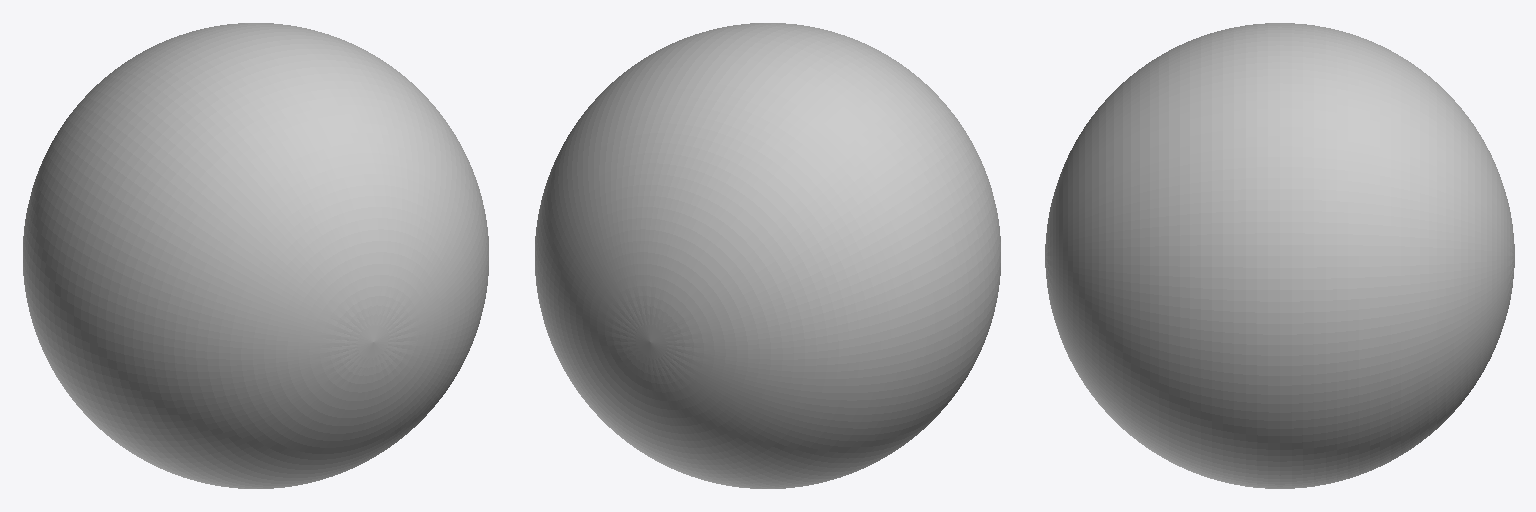
The model's file is sun2.obj.
3 renders of one model, left to right at view 1: azimuth 30°, elevation 25°; view 2: azimuth 150°, elevation 25°; view 3: azimuth 270°, elevation 25°, orthographic.
Visible parts, largest first — view 1: sun2; view 2: sun2; view 3: sun2.
Boxes of the visible parts, x1,y1,x2,y2 form: sun2: [23, 23, 488, 488]; sun2: [535, 23, 1000, 488]; sun2: [1045, 23, 1514, 488].
Bounding box in the file's own units: 4.61 × 4.61 × 4.66.